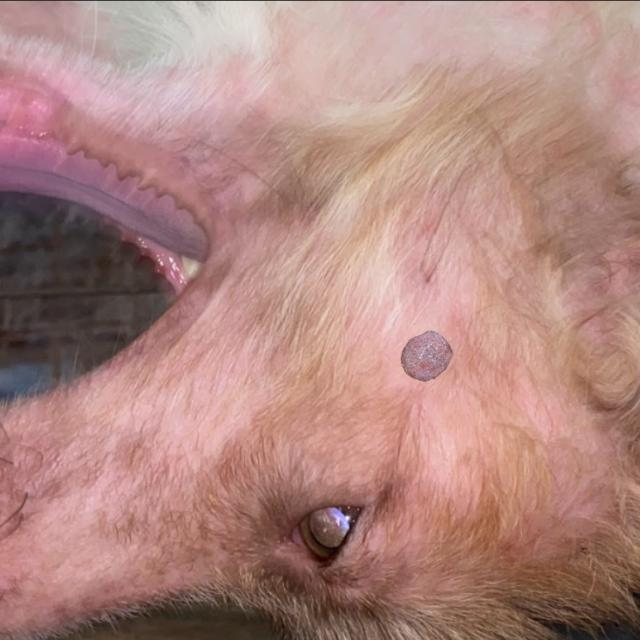ringworm: (361, 331, 485, 408)
